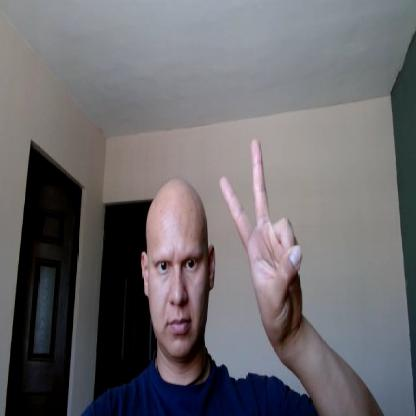V: (219, 137, 304, 336)
